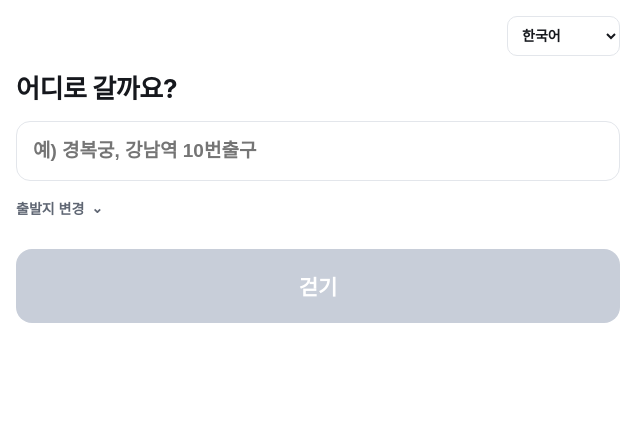
TEST A — 검색은 단발 위치로 기준을 잡고, 연속 추적은 시작하지 않는다 › 위치 권한 거부 시 좌표 없이 검색하되 '가까운 순 아님' 안내를 띄운다
In the search field named "목적지": (318, 151) [16,121,620,181], type "경복궁"
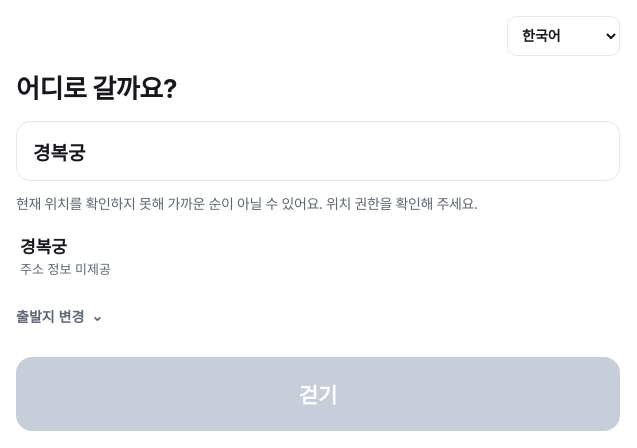
Expected: the text "현재 위치를 확인하지 못해 가까운 순이 아닐 수 있어요. 위치 권한을 확인해 주세요." is shown, [16,195,478,212]
